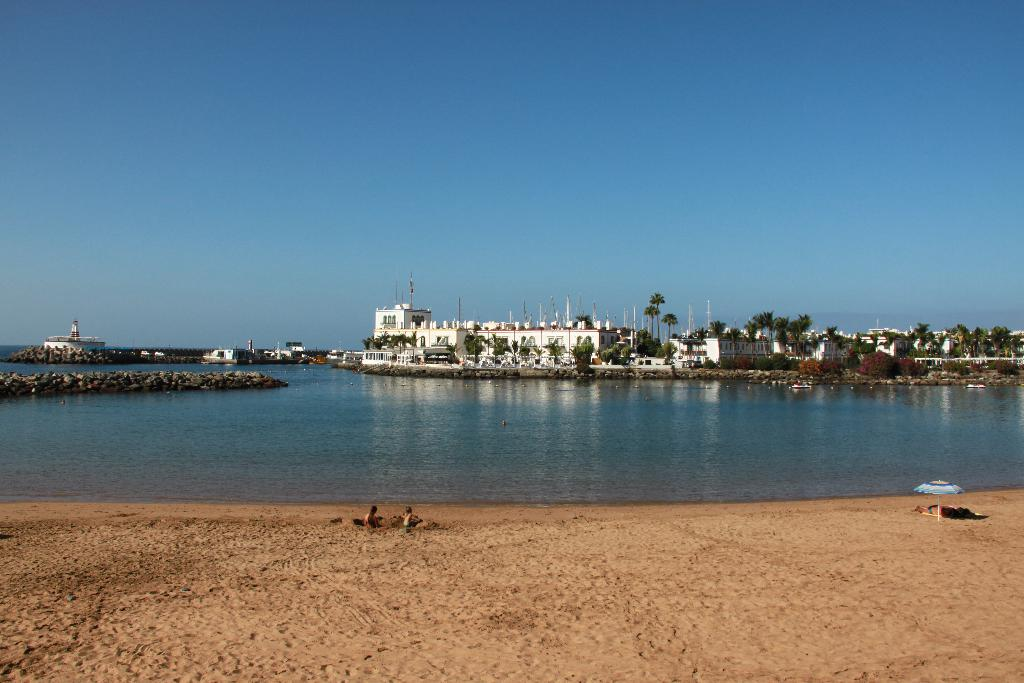Tree: (464, 329, 562, 358), (746, 317, 812, 357), (944, 323, 1023, 356), (867, 323, 943, 357), (359, 331, 416, 349), (686, 324, 711, 364), (634, 326, 662, 354), (711, 319, 725, 365), (651, 292, 664, 338), (571, 338, 596, 360), (824, 327, 842, 356), (846, 332, 864, 353), (726, 328, 738, 357), (659, 339, 678, 357), (573, 312, 595, 326)
